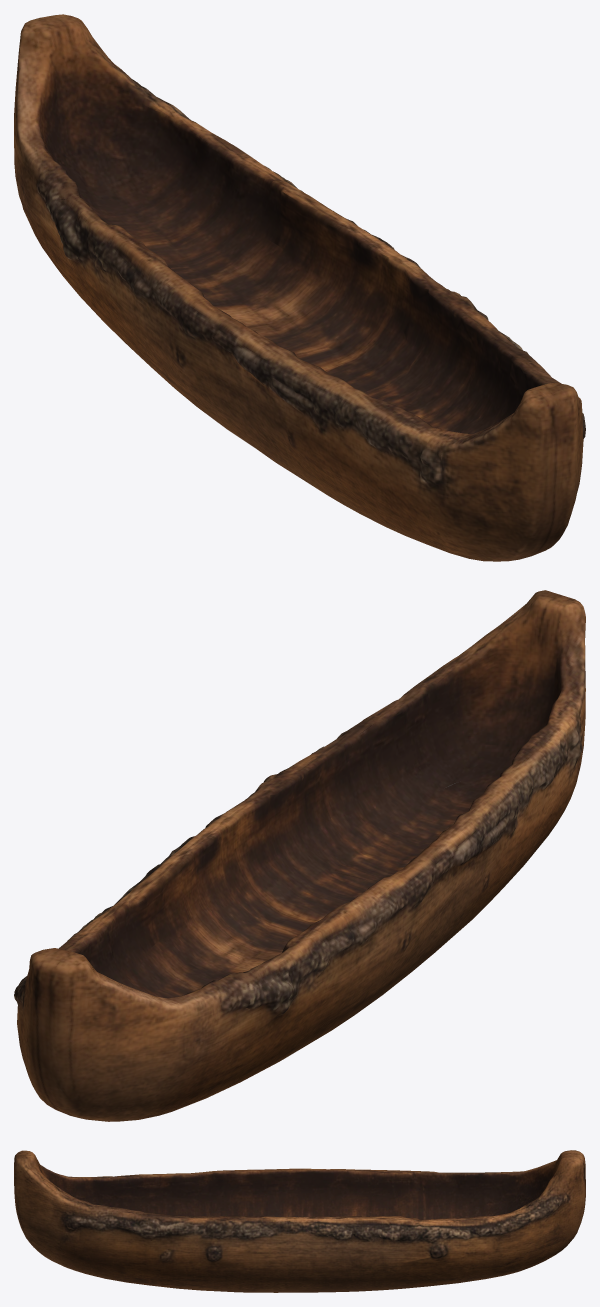
The picture shows the model from 3 angles, top to bottom: view 1: azimuth 30°, elevation 25°; view 2: azimuth 150°, elevation 25°; view 3: azimuth 270°, elevation 25°; orthographic projection. The views are drawn at different scales.
Parts seen in each view (by area): view 1: dugout-canoe; view 2: dugout-canoe; view 3: dugout-canoe.
Boxes of the visible parts, bbox=[...] form: dugout-canoe: bbox=[14, 14, 585, 561]; dugout-canoe: bbox=[14, 590, 585, 1121]; dugout-canoe: bbox=[14, 1150, 585, 1292].
Bounding box in the file's own units: 0.9528 × 0.9483 × 3.8.
Materials: 1 (1 with a texture image).
